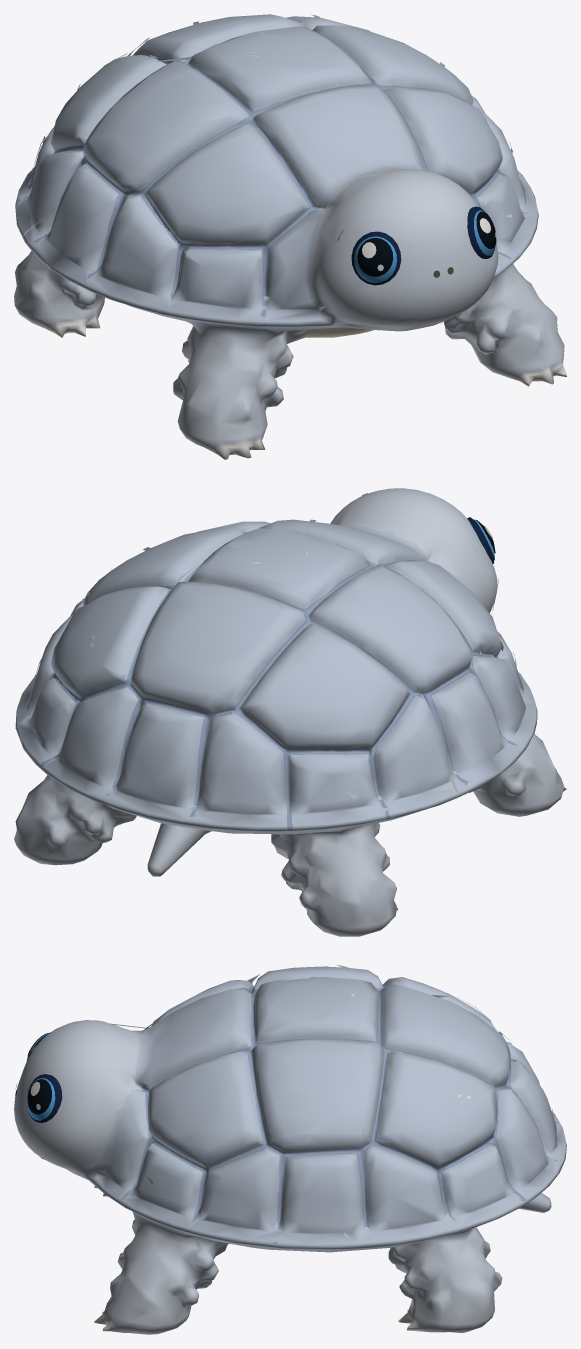
File: voltmere.glb
3 views of the same model, one above another, from view 1: azimuth 30°, elevation 25°; view 2: azimuth 150°, elevation 25°; view 3: azimuth 270°, elevation 25° (orthographic). The views are drawn at different scales.
Parts seen in each view (by area): view 1: body, eyes; view 2: body, eyes; view 3: body, eyes.
Boxes of the visible parts, box(x1,y1,x2,y2) form: body: box(14, 14, 566, 459); eyes: box(23, 14, 512, 322); body: box(14, 488, 566, 936); eyes: box(31, 493, 522, 799); body: box(14, 966, 566, 1334); eyes: box(15, 965, 554, 1237).
Bounding box in the file's own units: 1.17 × 0.7184 × 1.35.
